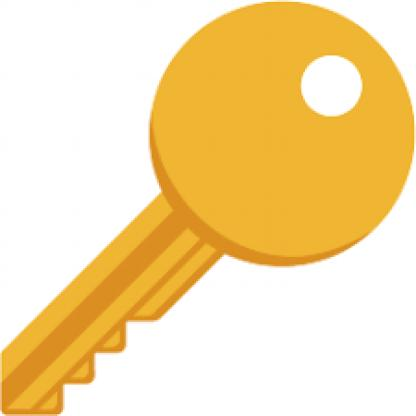key: (4, 4, 414, 410)
